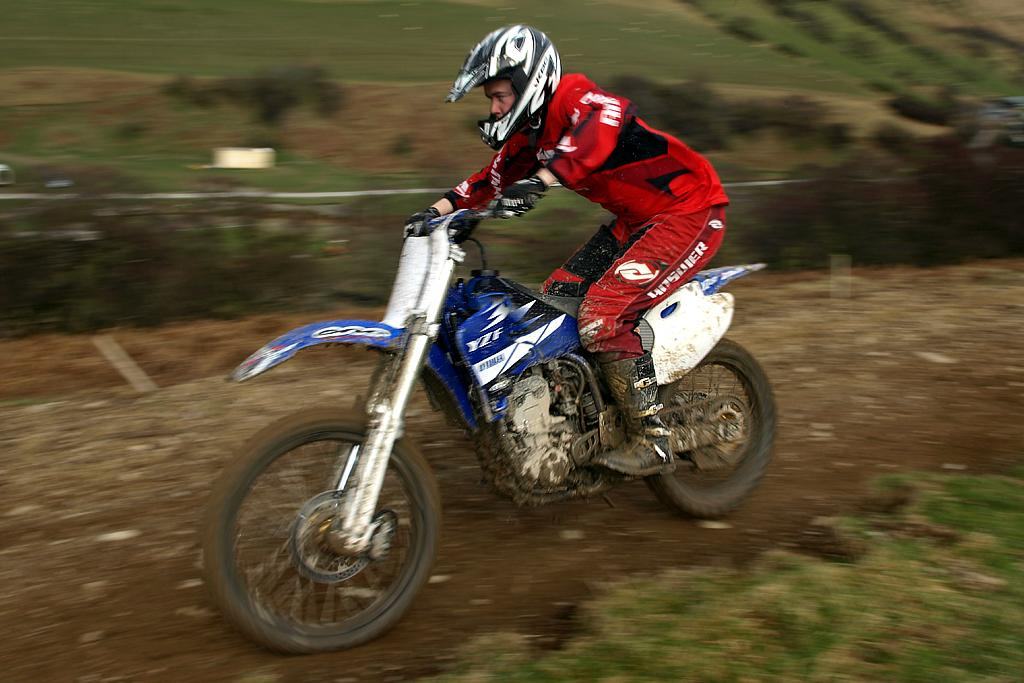helmet: (444, 24, 563, 151)
